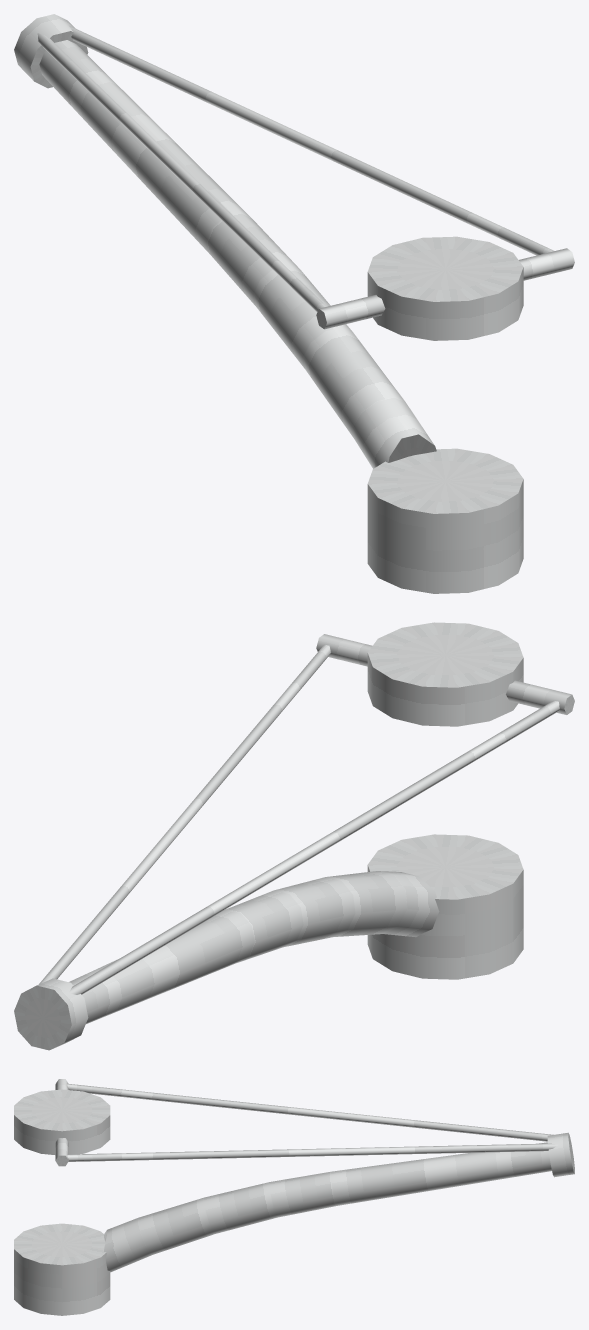
File: nycsignalarm_regular4_inv.obj
3 renders of one model, top to bottom at view 1: azimuth 30°, elevation 25°; view 2: azimuth 150°, elevation 25°; view 3: azimuth 270°, elevation 25°, orthographic. The views are drawn at different scales.
Visible parts, largest first — view 1: nycsignalarm_regular4_inv; view 2: nycsignalarm_regular4_inv; view 3: nycsignalarm_regular4_inv.
Part boxes in pixels (x1=…): nycsignalarm_regular4_inv: x1=14, y1=14, x2=574, y2=593; nycsignalarm_regular4_inv: x1=14, y1=622, x2=574, y2=1050; nycsignalarm_regular4_inv: x1=14, y1=1079, x2=574, y2=1315.
Size of the model in its own units: 0.3229 by 0.3633 by 1.
